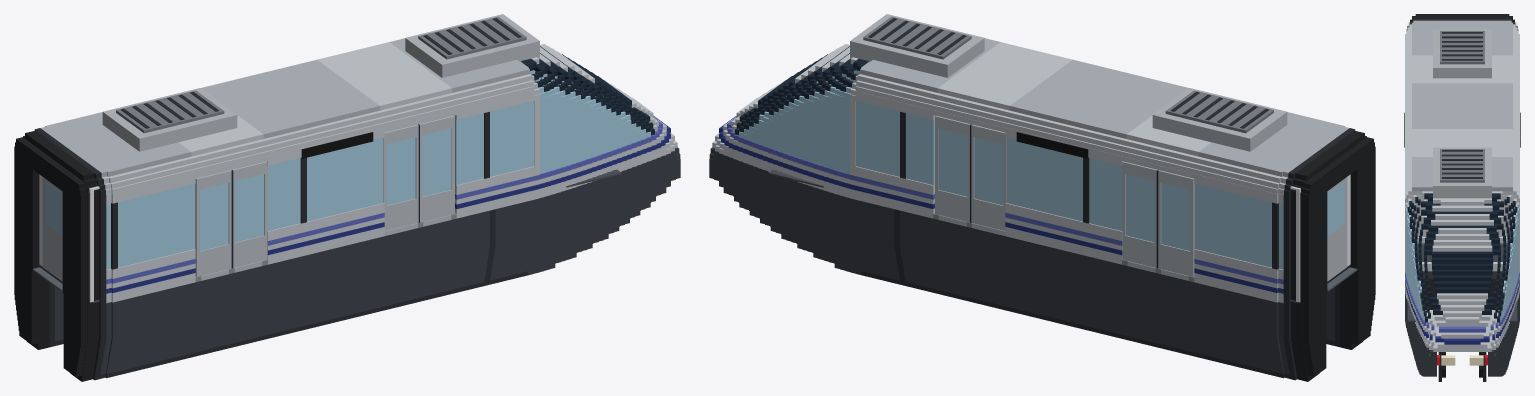
Rendered from innovia_front.obj.
3 renders of one model, left to right at view 1: azimuth 30°, elevation 25°; view 2: azimuth 150°, elevation 25°; view 3: azimuth 270°, elevation 25°, orthographic. The views are drawn at different scales.
Visible parts, largest first — view 1: SHELL, SHELL_roof, SHELL_diaphragm, EXTERNAL_DOOR_3_CG_DR1_TOGGLE_TL_-0.74_X, EXTERNAL_DOOR_9_CG_DR2_TOGGLE_TL_-0.74_X, EXTERNAL_DOOR_10_CG_DR2_TOGGLE_TL_0.74_X, EXTERNAL_DOOR_4_CG_DR1_TOGGLE_TL_0.74_X, CONNECTING_DOOR_1_CG_CR_TOGGLE_TL_0.98_Z, SHELL_end, SHELL_sign; view 2: SHELL, SHELL_roof, SHELL_diaphragm, EXTERNAL_DOOR_6_CG_DL1_TOGGLE_TL_-0.74_X, EXTERNAL_DOOR_12_CG_DL2_TOGGLE_TL_-0.74_X, EXTERNAL_DOOR_7_CG_DL1_TOGGLE_TL_0.74_X, EXTERNAL_DOOR_13_CG_DL2_TOGGLE_TL_0.74_X, CONNECTING_DOOR_1_CG_CR_TOGGLE_TL_0.98_Z, SHELL_end, SHELL_sign; view 3: SHELL, SHELL_roof, SHELL_front, SHELL_bench, BOGEY_FRONT, HEADLIGHT_1, SHELL_floor.
Boxes of the visible parts, left/top/right/bottom form: SHELL: left=23, top=38, right=680, bottom=381; SHELL_roof: left=102, top=14, right=539, bottom=151; SHELL_diaphragm: left=14, top=137, right=87, bottom=376; EXTERNAL_DOOR_3_CG_DR1_TOGGLE_TL_-0.74_X: left=195, top=170, right=233, bottom=276; EXTERNAL_DOOR_9_CG_DR2_TOGGLE_TL_-0.74_X: left=383, top=124, right=419, bottom=230; EXTERNAL_DOOR_10_CG_DR2_TOGGLE_TL_0.74_X: left=419, top=116, right=454, bottom=222; EXTERNAL_DOOR_4_CG_DR1_TOGGLE_TL_0.74_X: left=232, top=161, right=267, bottom=267; CONNECTING_DOOR_1_CG_CR_TOGGLE_TL_0.98_Z: left=42, top=177, right=62, bottom=281; SHELL_end: left=39, top=174, right=93, bottom=302; SHELL_sign: left=301, top=132, right=373, bottom=158; SHELL: left=709, top=38, right=1366, bottom=381; SHELL_roof: left=850, top=14, right=1287, bottom=151; SHELL_diaphragm: left=1302, top=137, right=1375, bottom=376; EXTERNAL_DOOR_6_CG_DL1_TOGGLE_TL_-0.74_X: left=1156, top=170, right=1194, bottom=276; EXTERNAL_DOOR_12_CG_DL2_TOGGLE_TL_-0.74_X: left=970, top=124, right=1006, bottom=230; EXTERNAL_DOOR_7_CG_DL1_TOGGLE_TL_0.74_X: left=1122, top=161, right=1157, bottom=267; EXTERNAL_DOOR_13_CG_DL2_TOGGLE_TL_0.74_X: left=935, top=116, right=970, bottom=222; CONNECTING_DOOR_1_CG_CR_TOGGLE_TL_0.98_Z: left=1327, top=177, right=1347, bottom=281; SHELL_end: left=1296, top=174, right=1350, bottom=302; SHELL_sign: left=1016, top=132, right=1088, bottom=158; SHELL: left=1405, top=14, right=1519, bottom=376; SHELL_roof: left=1433, top=29, right=1491, bottom=198; SHELL_front: left=1417, top=243, right=1507, bottom=309; SHELL_bench: left=1409, top=195, right=1515, bottom=242; BOGEY_FRONT: left=1438, top=352, right=1486, bottom=381; HEADLIGHT_1: left=1441, top=355, right=1483, bottom=365; SHELL_floor: left=1407, top=299, right=1517, bottom=321.
Bounding box in the file's own units: 13.76 × 4.8 × 2.82.
Materials: 1 (1 with a texture image).
